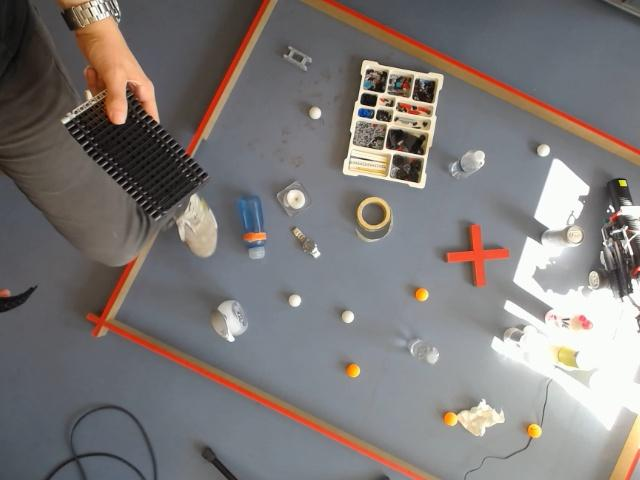orange: (344, 362, 362, 380), (413, 287, 431, 303), (526, 424, 542, 439), (442, 410, 457, 426)
robot: (588, 178, 640, 330)
robot-front: (608, 178, 632, 208)
white: (339, 308, 356, 326), (286, 293, 304, 310), (534, 142, 552, 159), (310, 107, 321, 119)
